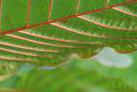kratom-red: (0, 0, 136, 83)
